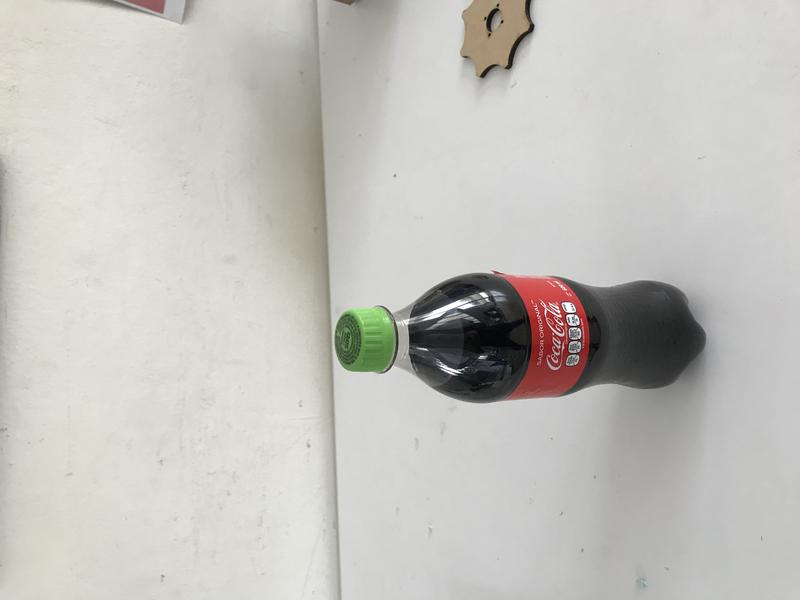coca_cola: (335, 272, 707, 404)
